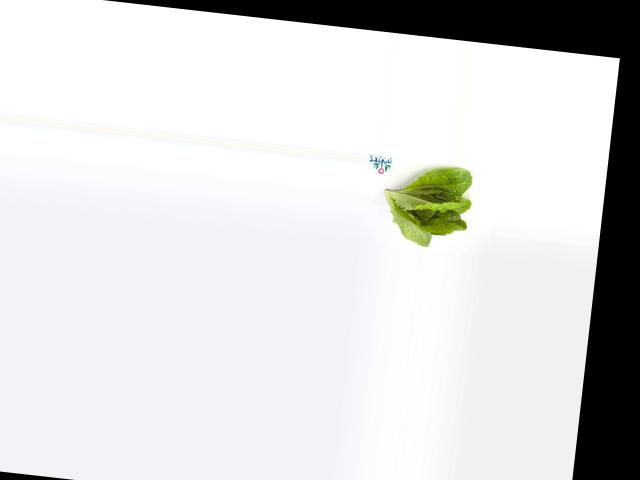lettuce: (378, 161, 477, 253)
